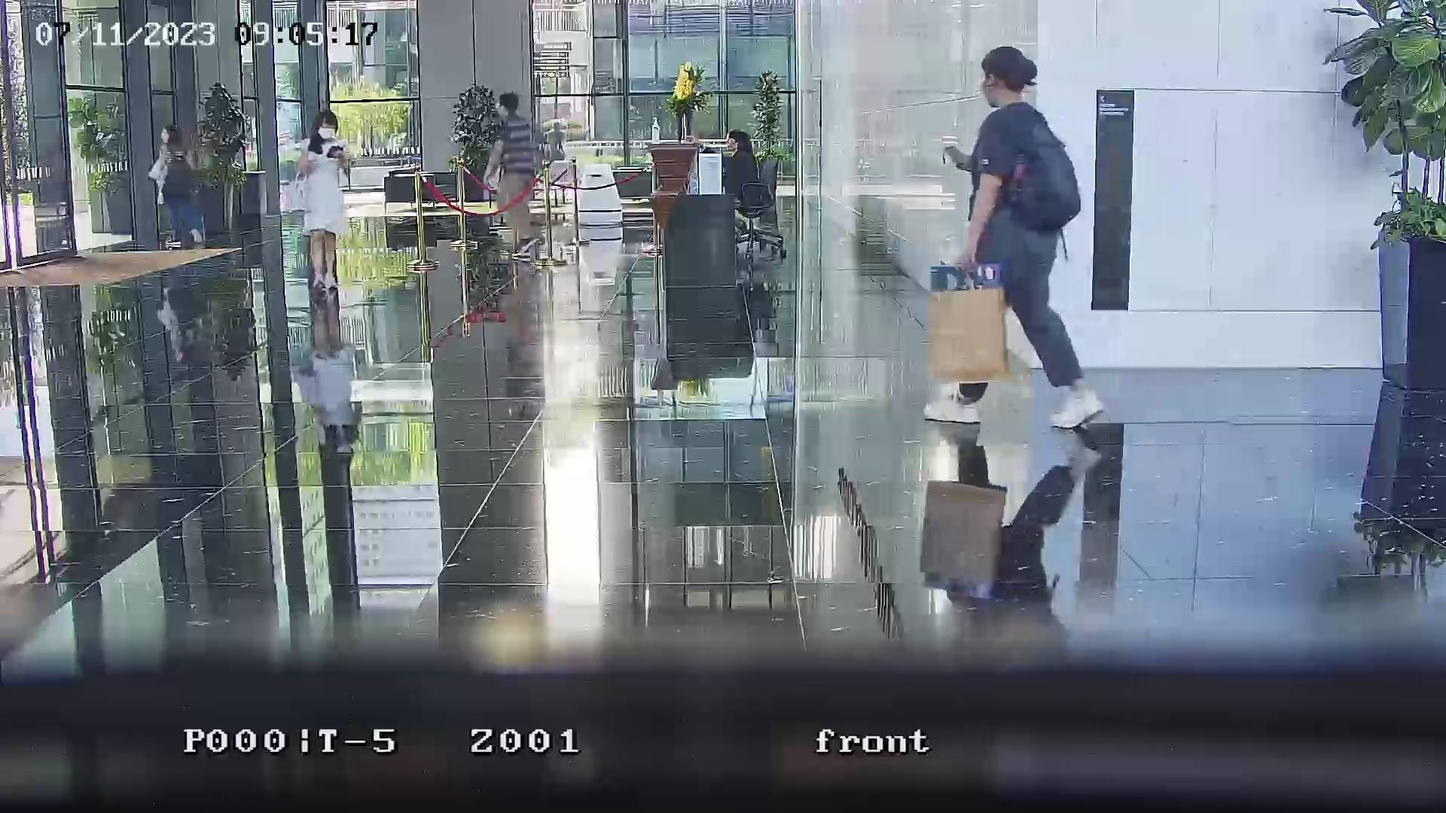person: (941, 46, 1107, 431), (288, 110, 349, 361), (290, 110, 350, 290), (484, 93, 545, 257), (149, 126, 207, 248), (723, 128, 757, 196)
